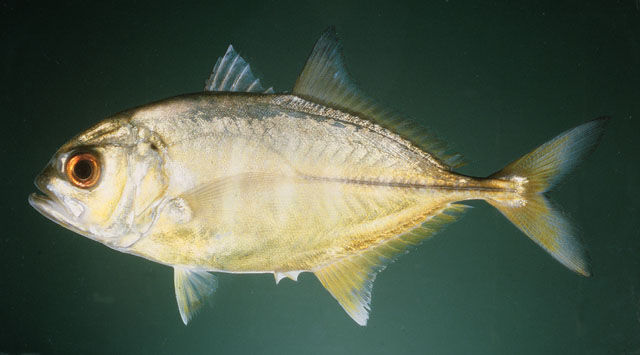fish: (30, 27, 605, 330)
